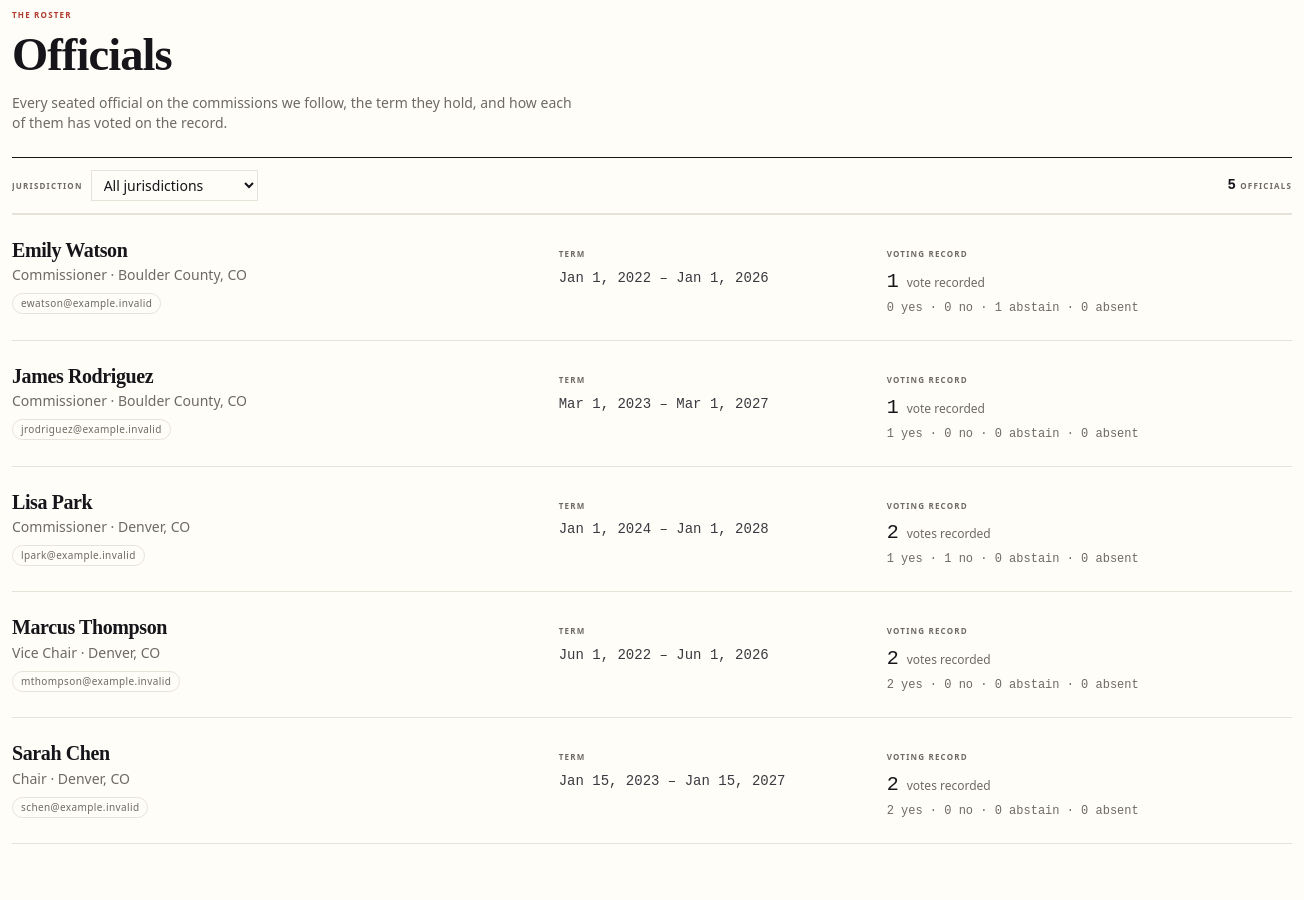
OfficialsPage › reports an empty roster rather than rendering nothing
The width and height of the screenshot is (1304, 900).
Check: the element "Sarah Chen" is shown, box [12, 717, 1292, 843]
Select "Austin, TX" in the dropdown labelled "Jurisdiction". click: (174, 185)
box: [91, 170, 258, 201]
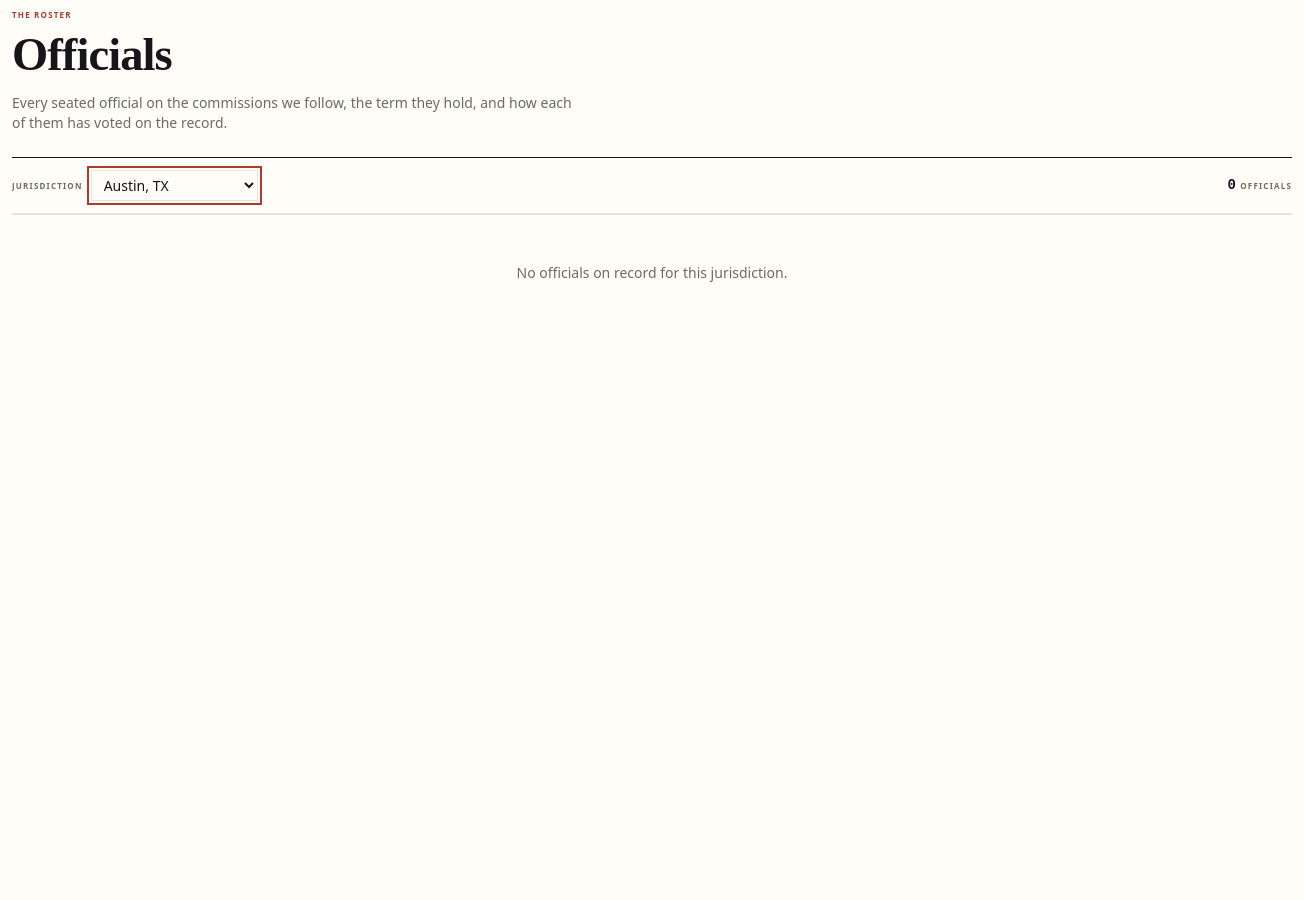
Check: the text "No officials on record for this jurisdiction." is shown, box [12, 214, 1292, 331]
